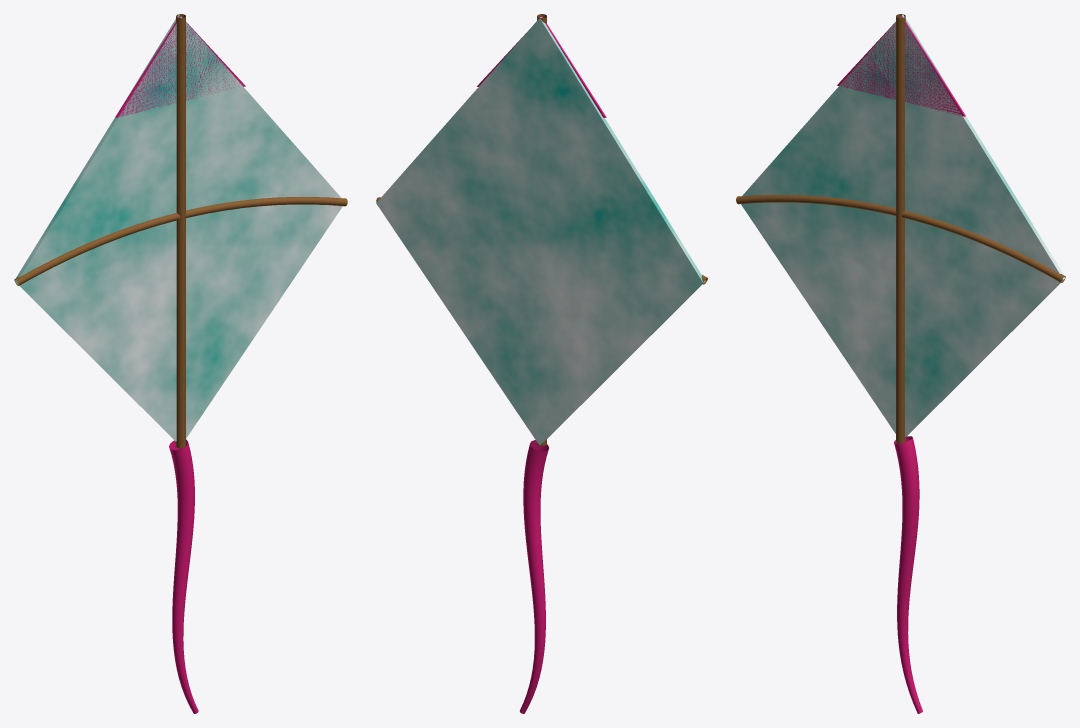
The model's file is kite.glb.
The picture shows the model from 3 angles, left to right: view 1: azimuth 30°, elevation 25°; view 2: azimuth 150°, elevation 25°; view 3: azimuth 330°, elevation 25°; orthographic projection.
Visible parts, largest first — view 1: kite; view 2: kite; view 3: kite.
Part boxes in pixels (<box>): kite: <box>14,14,347,713</box>; kite: <box>376,14,707,713</box>; kite: <box>736,14,1065,713</box>.
Size of the model in its own units: 0.7648 by 1.55 by 0.04.
Materials: 1 (1 with a texture image).
